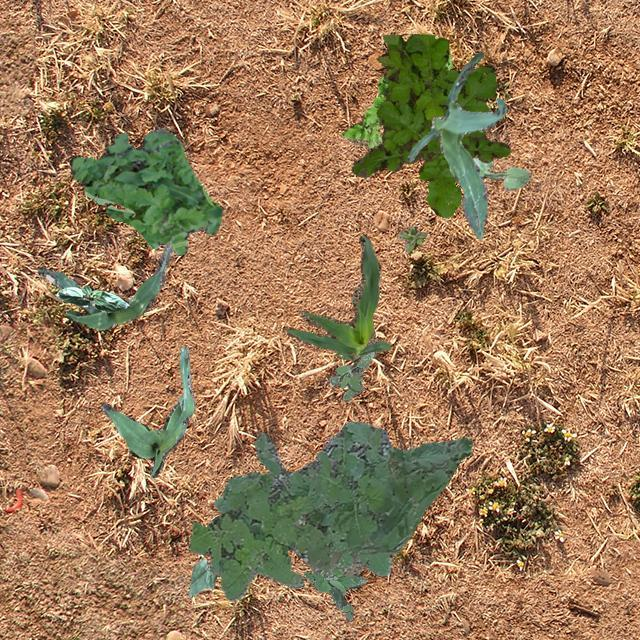crop: (406, 51, 506, 238), (286, 232, 390, 362), (36, 240, 172, 330), (100, 346, 194, 476), (55, 284, 128, 312), (472, 156, 530, 190), (188, 558, 216, 596)
weed: (187, 420, 470, 600), (351, 34, 508, 216), (68, 128, 222, 255), (341, 51, 452, 150), (303, 566, 365, 620), (328, 350, 374, 400), (396, 224, 424, 252)
